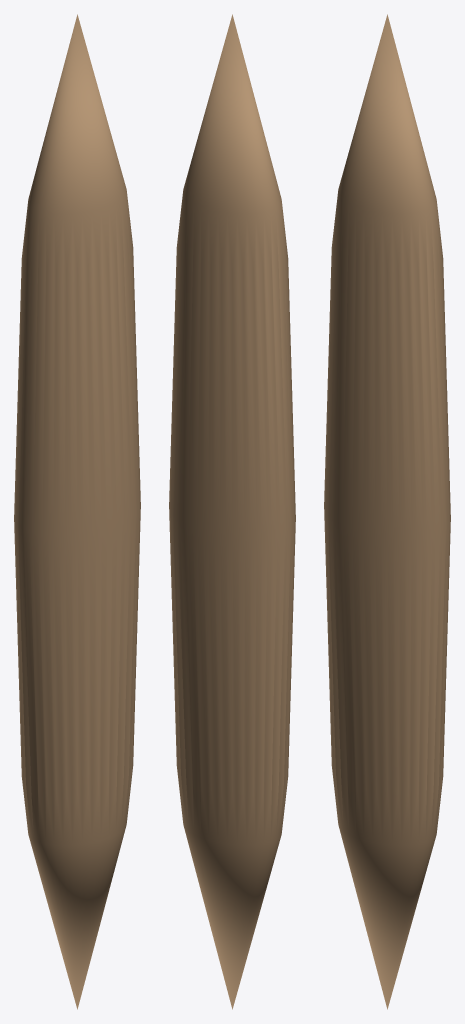
The model's file is cucharilla_b.glb.
3 renders of one model, left to right at view 1: azimuth 30°, elevation 25°; view 2: azimuth 150°, elevation 25°; view 3: azimuth 330°, elevation 25°, orthographic.
Parts seen in each view (by area): view 1: Cylinder; view 2: Cylinder; view 3: Cylinder.
Part boxes in pixels (bbox=[...]): Cylinder: bbox=[14, 14, 140, 1009]; Cylinder: bbox=[169, 14, 295, 1009]; Cylinder: bbox=[324, 14, 450, 1009].
Bounding box in the file's own units: 0.0207 × 0.1682 × 0.0149.
